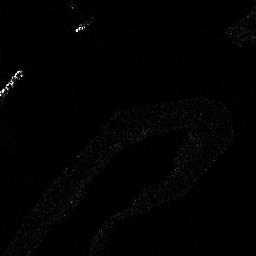ship: (1, 68, 24, 99)
